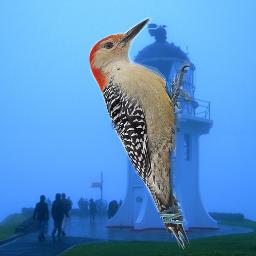Woodpecker: (89, 15, 191, 250)
